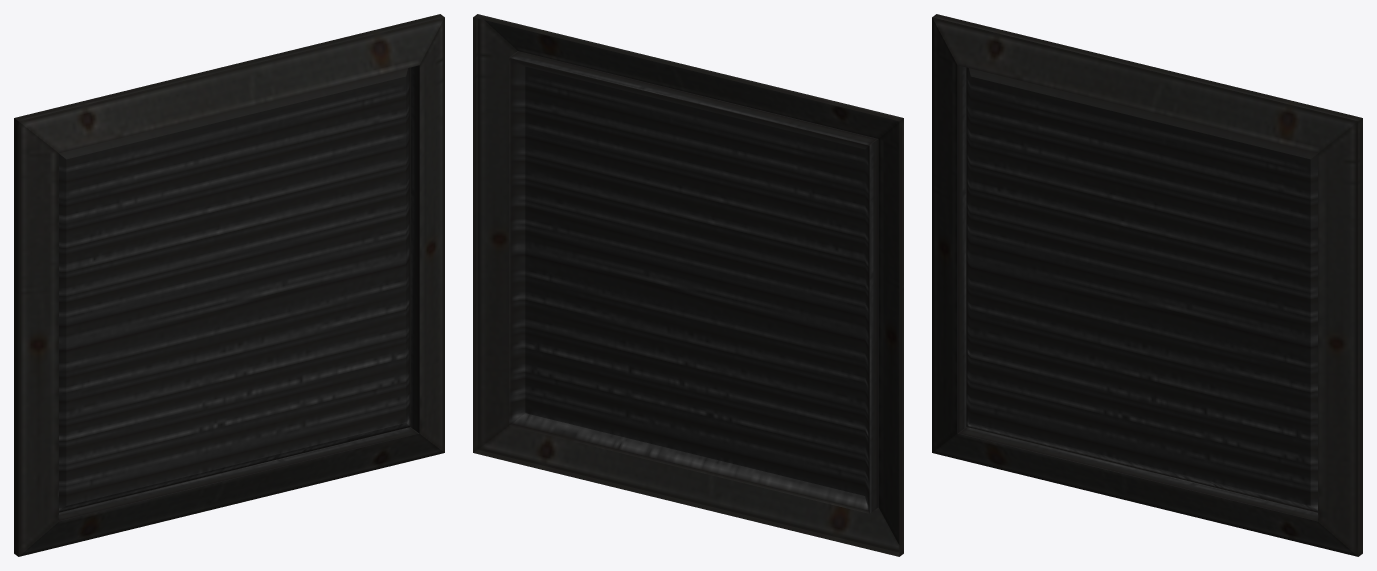
Rendered from vent_2.obj.
3 views of the same model, side by side, from view 1: azimuth 30°, elevation 25°; view 2: azimuth 150°, elevation 25°; view 3: azimuth 330°, elevation 25° (orthographic).
Visible parts, largest first — view 1: vent_2; view 2: vent_2; view 3: vent_2.
Part boxes in pixels (x1,y1,x2,y2): vent_2: [14, 14, 444, 556]; vent_2: [473, 14, 903, 556]; vent_2: [932, 14, 1362, 556].
Size of the model in its own units: 0.8192 by 0.8 by 0.04.
